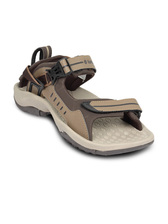shoes: (13, 44, 157, 158)
